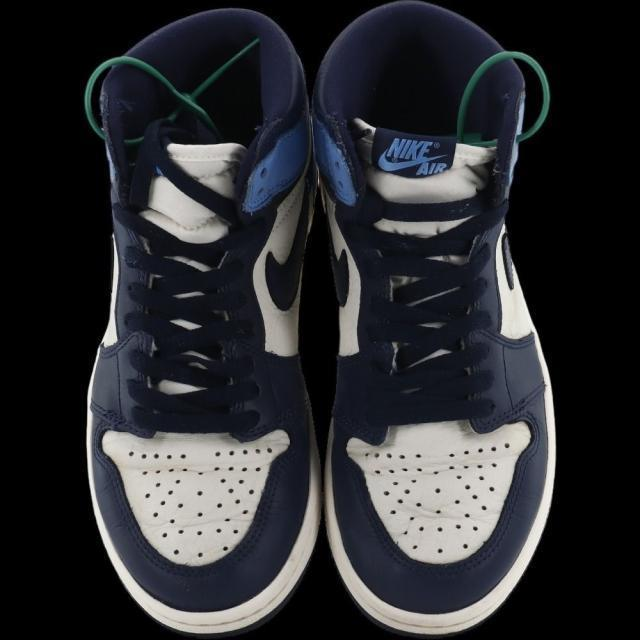nike original jordan 1: (312, 0, 566, 640), (82, 0, 327, 640)
